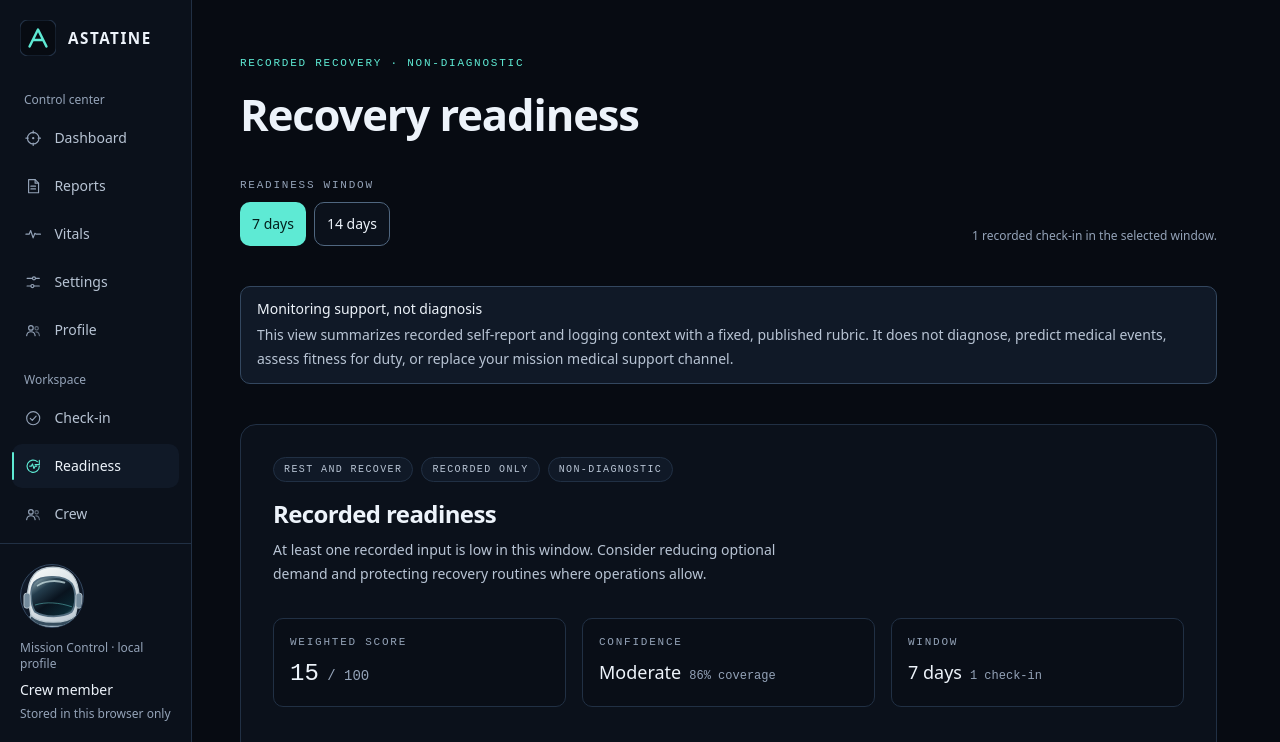
Test: ReadinessPage › renders recorded readiness, the labeled simulation, and the coach
Check: the heading "Recovery readiness" is shown, box [240, 84, 639, 144]
Check: the text "Rest and recover" is shown, box [273, 457, 413, 482]
Click the button "14 days": (352, 224) [314, 202, 390, 246]
(page scrolled)
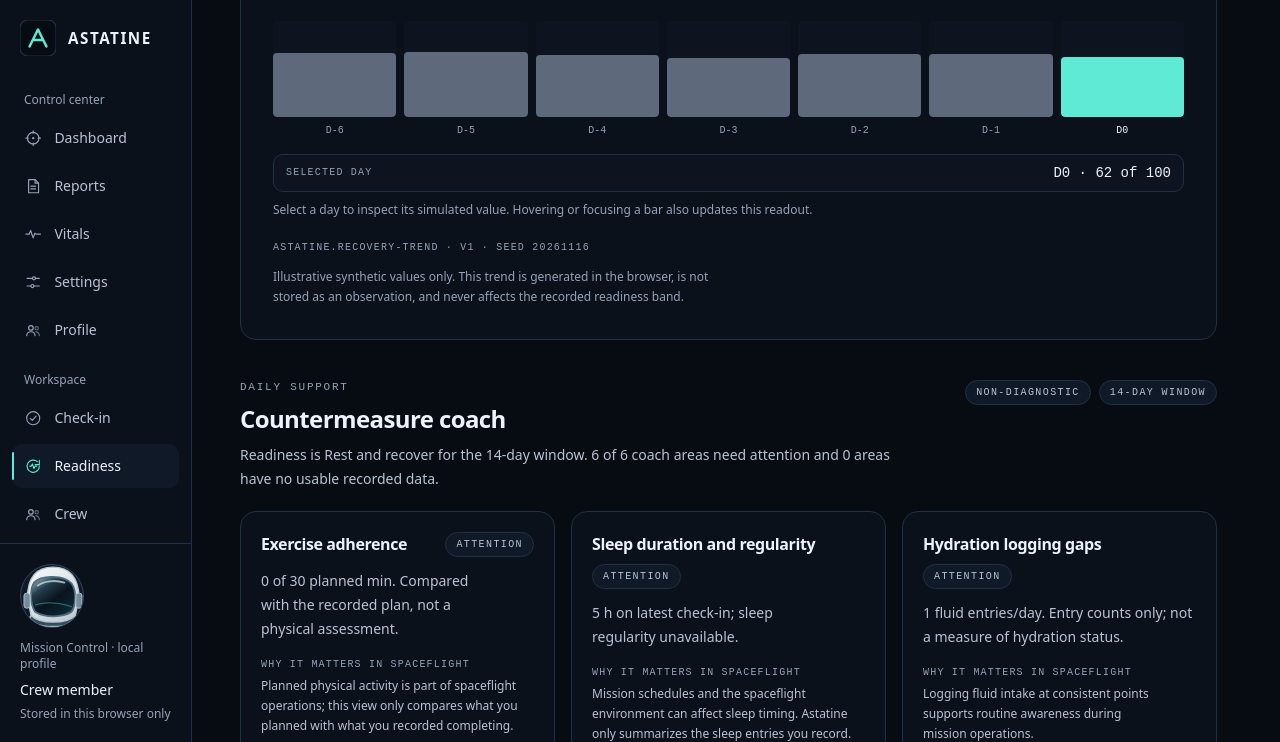
Check: the text "14-day window" is shown, box [1099, 380, 1217, 404]
